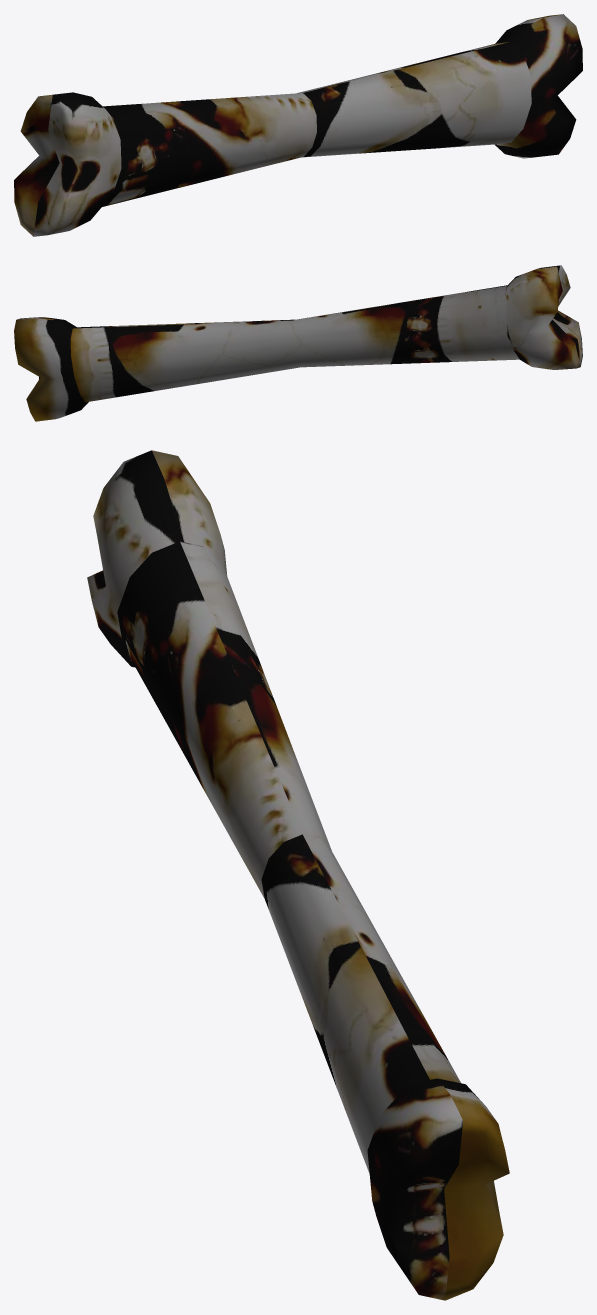
Rendered from Dungeon_Bone.glb.
The picture shows the model from 3 angles, top to bottom: view 1: azimuth 30°, elevation 25°; view 2: azimuth 150°, elevation 25°; view 3: azimuth 270°, elevation 25°; orthographic projection. The views are drawn at different scales.
Parts seen in each view (by area): view 1: Dungeon_Bone; view 2: Dungeon_Bone; view 3: Dungeon_Bone.
Boxes of the visible parts, x1,y1,x2,y2 form: Dungeon_Bone: (14, 14, 582, 236); Dungeon_Bone: (14, 265, 582, 421); Dungeon_Bone: (87, 450, 509, 1300).
Bounding box in the file's own units: 0.4114 × 0.1682 × 0.1545.
Materials: 1 (1 with a texture image).
